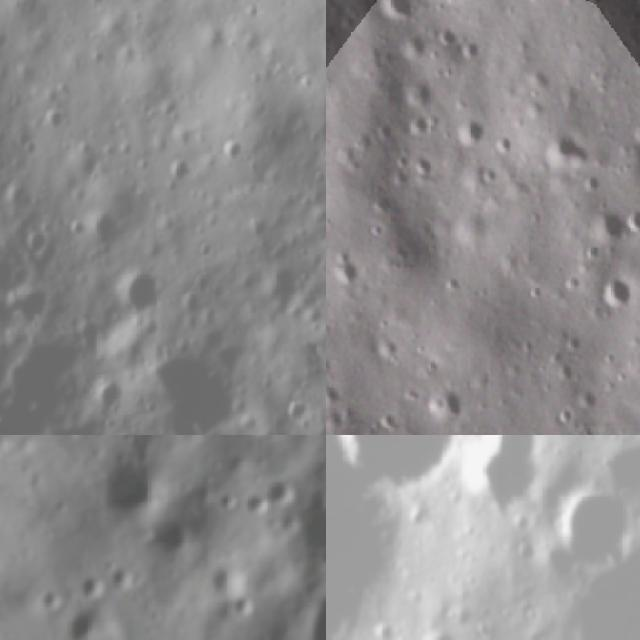crater: (128, 349, 247, 435), (554, 483, 636, 575), (104, 250, 180, 333), (330, 435, 465, 479), (468, 435, 545, 503), (99, 455, 170, 522), (533, 128, 600, 173), (150, 518, 204, 567), (304, 48, 326, 145), (592, 273, 640, 317), (375, 0, 426, 35), (449, 110, 492, 150), (65, 607, 114, 640), (208, 560, 250, 596), (428, 389, 468, 426), (108, 555, 144, 596), (369, 329, 404, 364), (264, 476, 300, 510), (546, 355, 580, 386), (78, 574, 109, 605), (222, 435, 278, 450), (576, 381, 602, 412), (623, 201, 640, 238), (231, 593, 256, 618), (326, 348, 342, 386), (625, 118, 640, 152), (72, 435, 103, 443)
